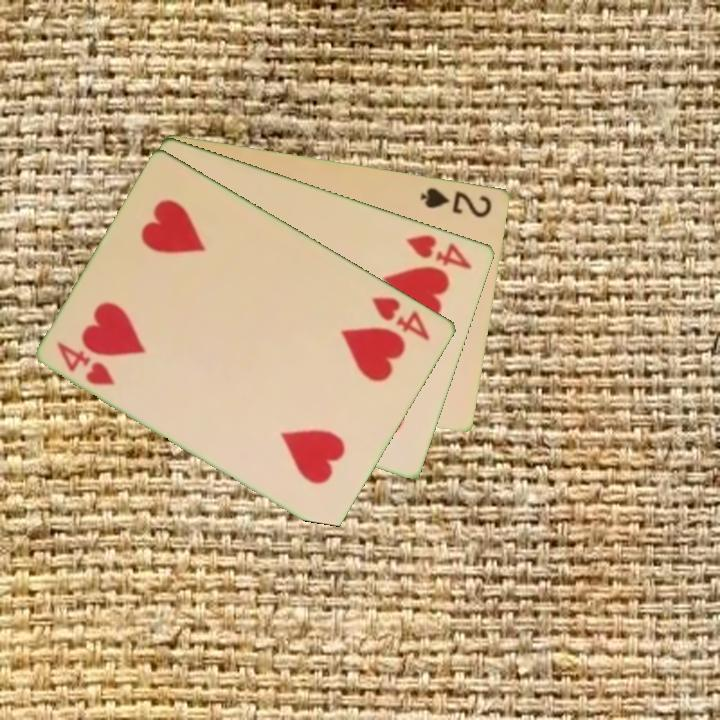2s: (417, 183, 495, 220)
4h: (53, 338, 119, 389), (368, 293, 433, 344), (403, 231, 476, 272)
